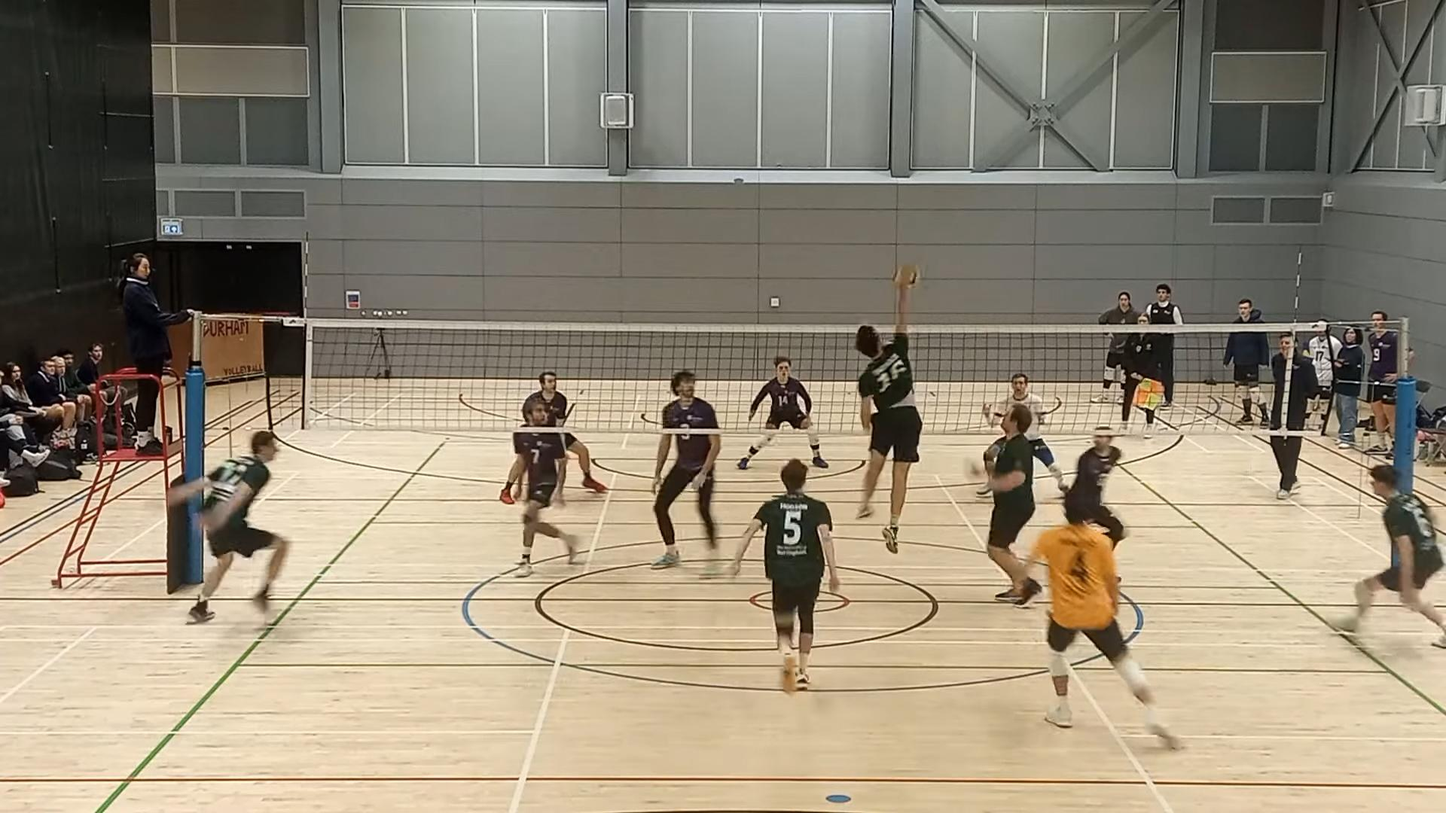attacco: (854, 279, 924, 558)
